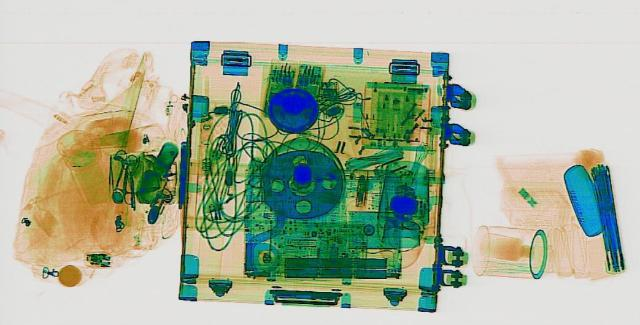Scissors: (104, 148, 138, 187), (110, 159, 136, 202)
